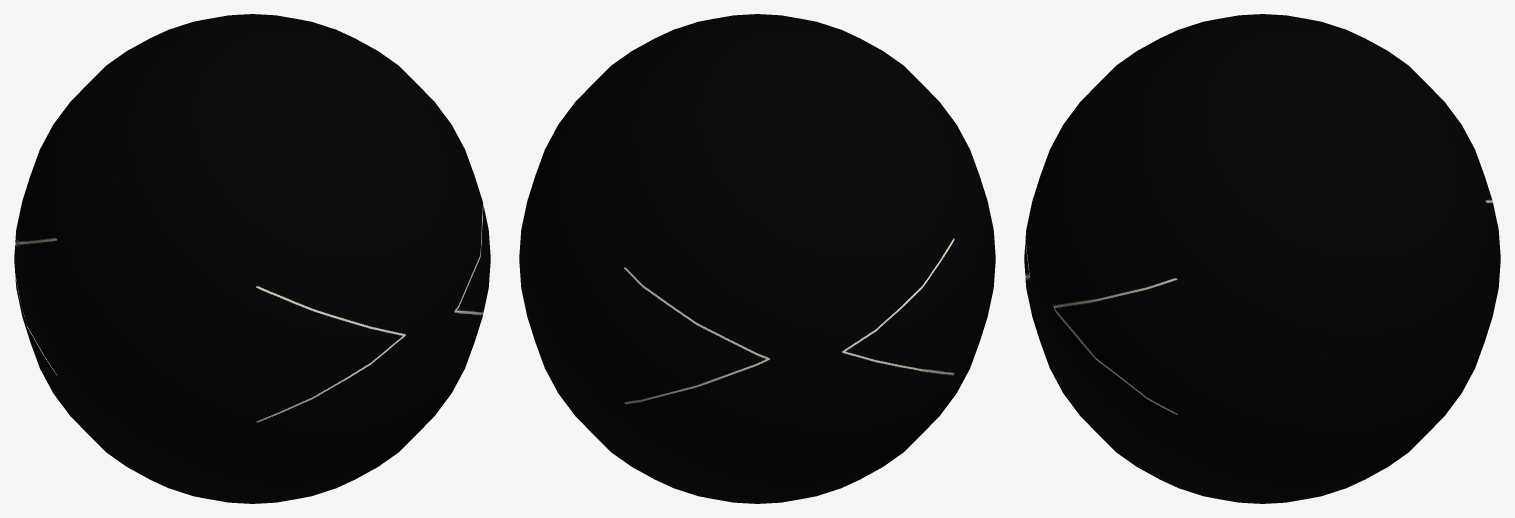
File: SM_MillioBall.fbx
3 renders of one model, left to right at view 1: azimuth 30°, elevation 25°; view 2: azimuth 150°, elevation 25°; view 3: azimuth 270°, elevation 25°, orthographic.
Parts seen in each view (by area): view 1: pSphere1; view 2: pSphere1; view 3: pSphere1.
Boxes of the visible parts, x1=… form: pSphere1: x1=14, y1=14, x2=490, y2=503; pSphere1: x1=519, y1=14, x2=995, y2=503; pSphere1: x1=1024, y1=14, x2=1500, y2=503.
Bounding box in the file's own units: 19.17 × 19.91 × 19.17.
